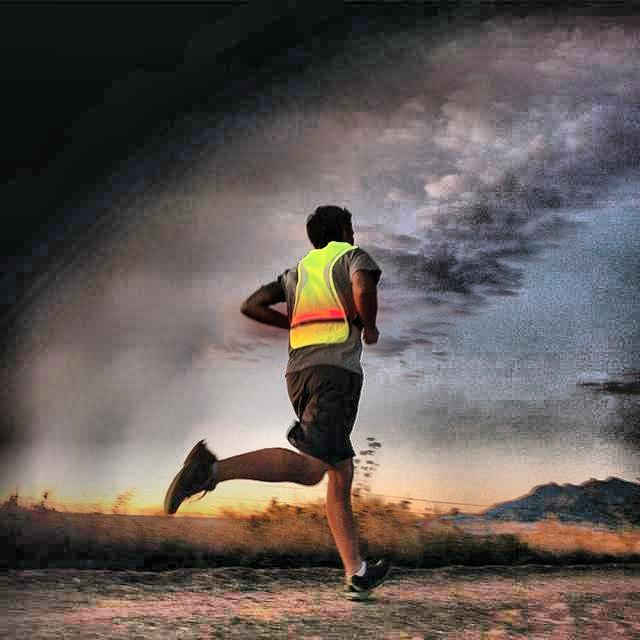safety_jacket: (288, 244, 364, 368)
